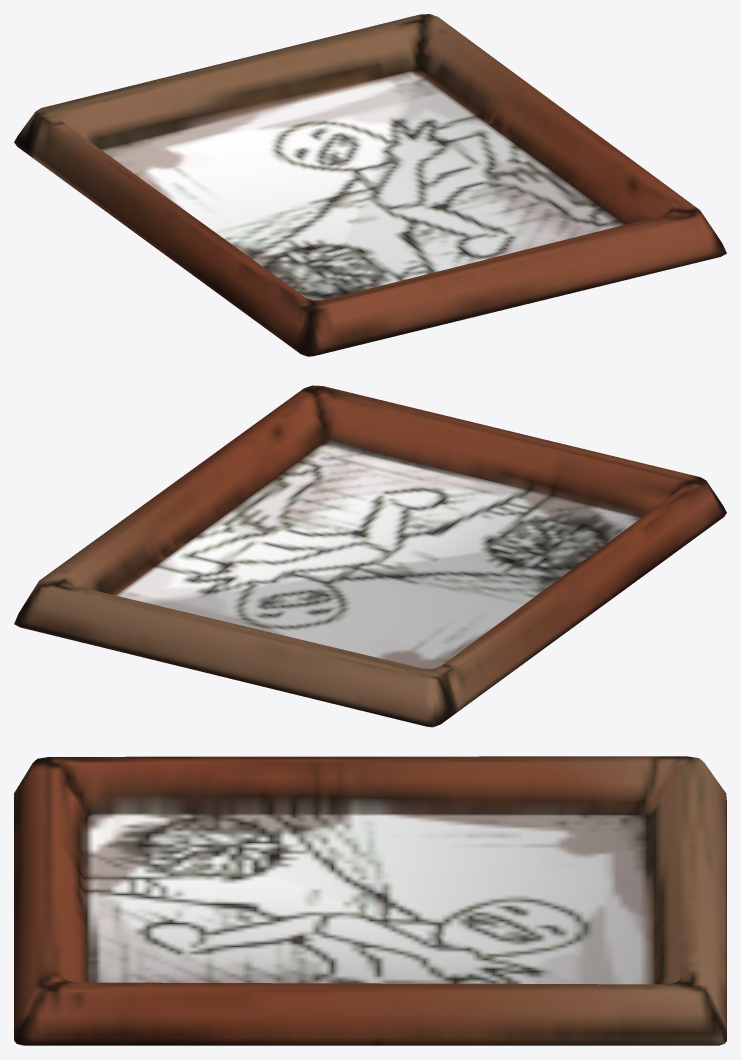
Rendered from Painting2.fbx.
3 views of the same model, one above another, from view 1: azimuth 30°, elevation 25°; view 2: azimuth 150°, elevation 25°; view 3: azimuth 270°, elevation 25° (orthographic). The views are drawn at different scales.
Parts seen in each view (by area): view 1: Painting2; view 2: Painting2; view 3: Painting2.
Boxes of the visible parts, bbox=[...] form: Painting2: bbox=[14, 14, 726, 356]; Painting2: bbox=[14, 385, 726, 727]; Painting2: bbox=[14, 756, 726, 1045].
Bounding box in the file's own units: 28.75 × 2.55 × 34.53.
